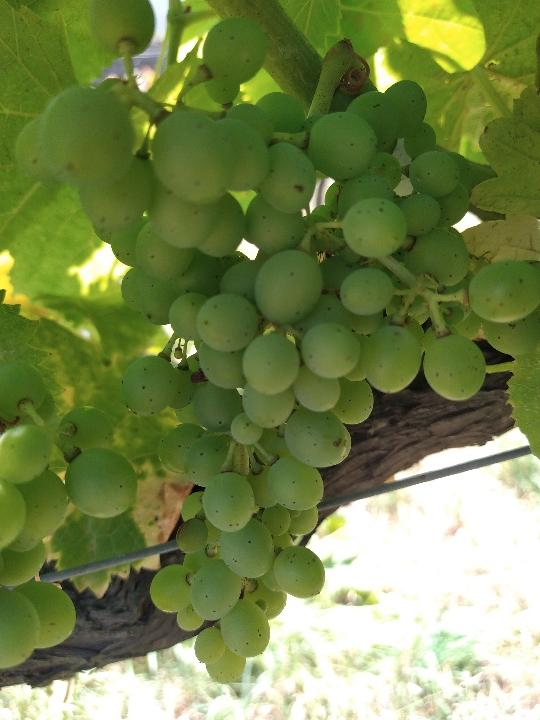grape: (14, 2, 537, 690)
